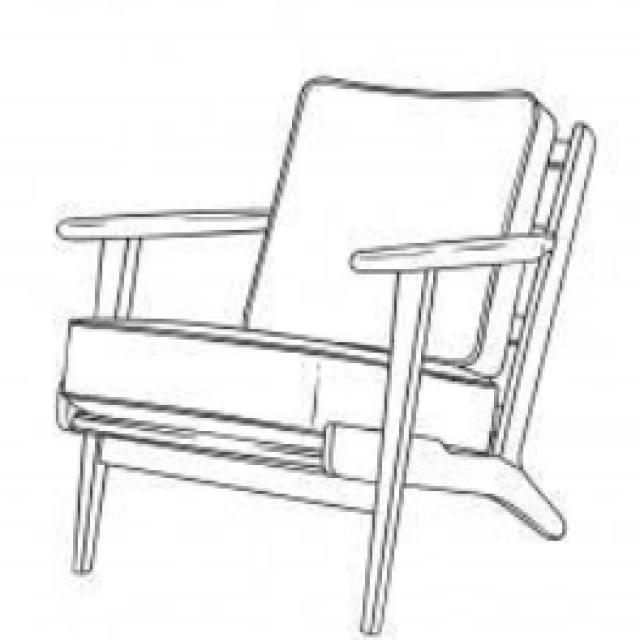Armrest: (344, 230, 556, 637), (52, 207, 274, 322)
Backrest: (235, 70, 566, 381)
Leg_Structure: (66, 417, 571, 637)
Seat: (58, 317, 502, 462)
